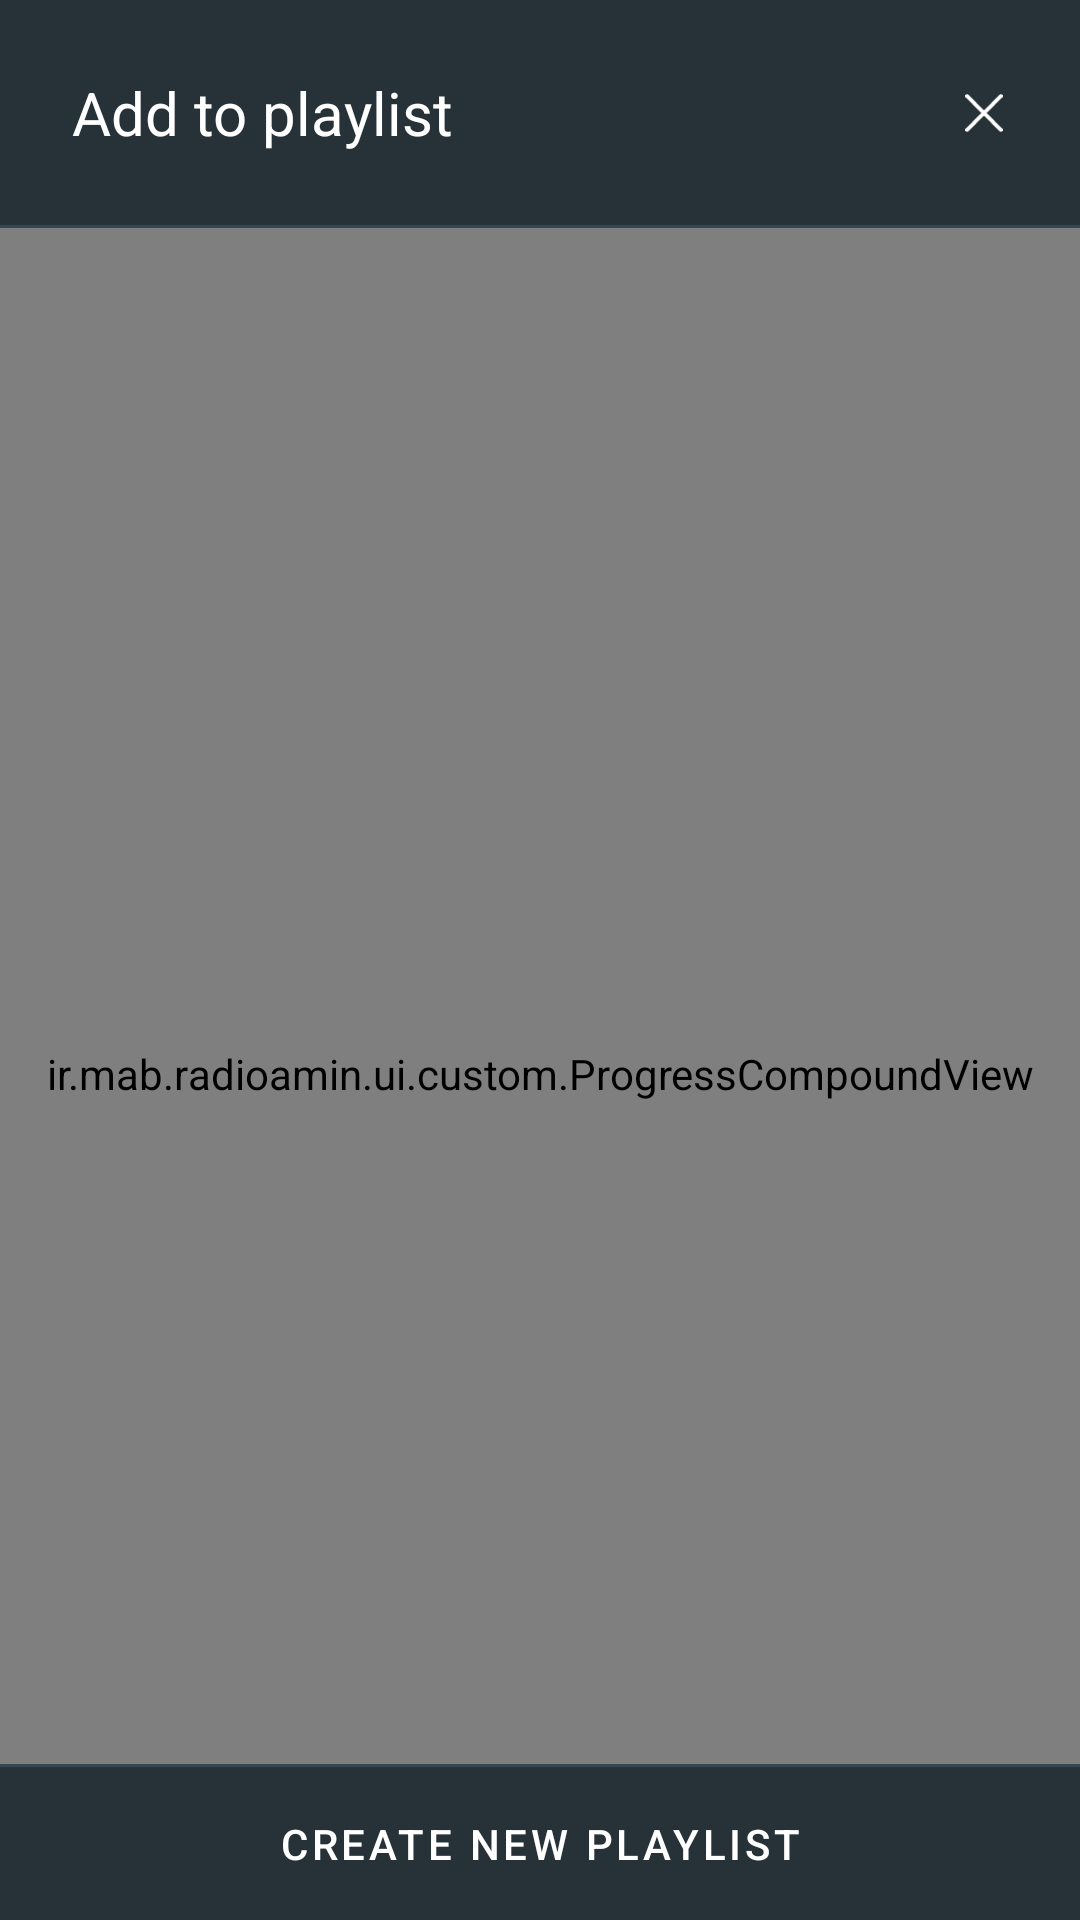

Icon click points for this 1080×1920 phone screenshot, format point (x, y):
xmark: point (984, 113)
